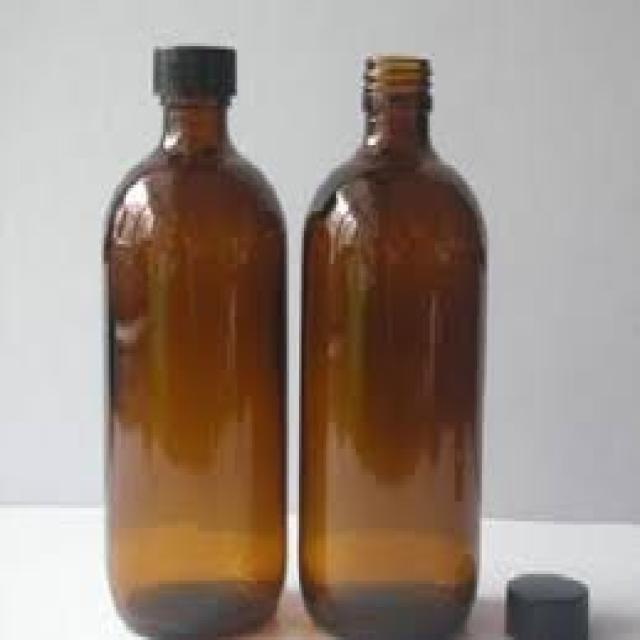Glass-Bottle: (101, 24, 292, 638), (293, 32, 485, 638)
